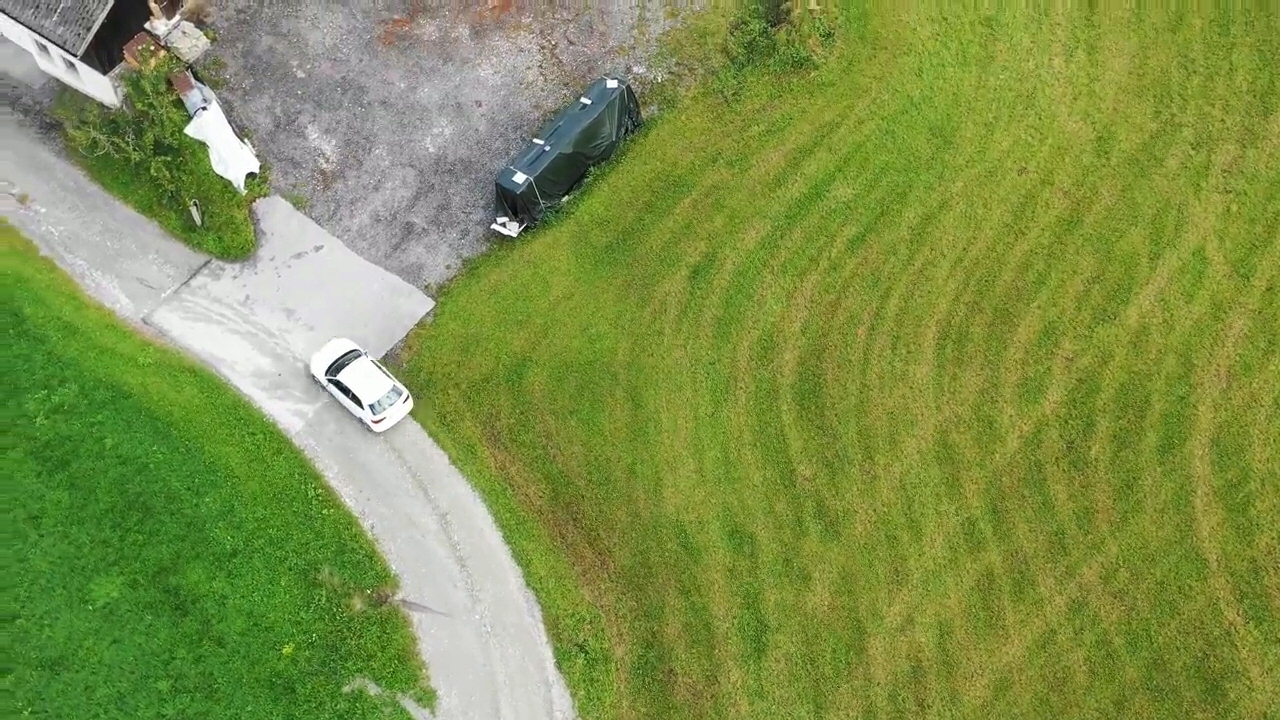araba: (306, 335, 417, 435)
